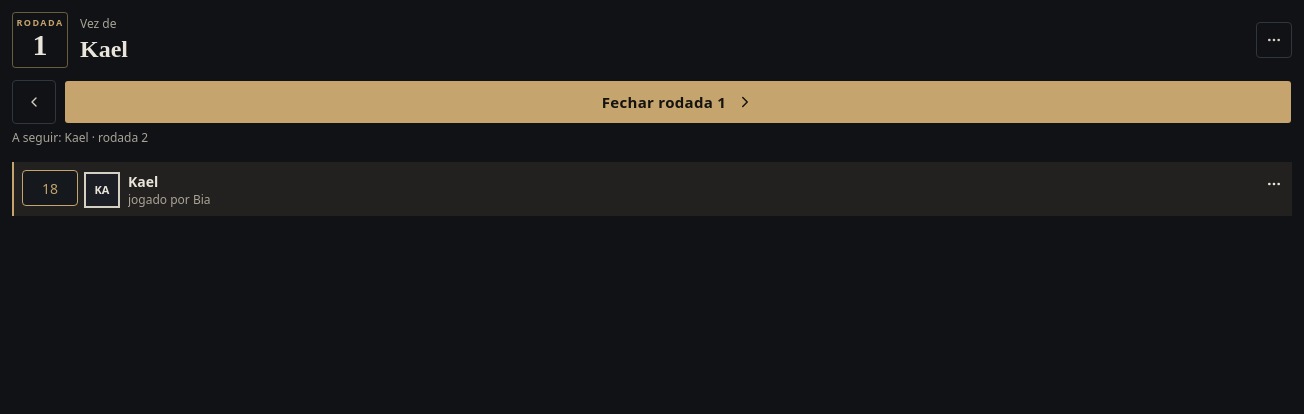
Test: CombatPanel › adding in the middle of the fight › "Adicionar ao combate" opens the preparation with only who is out
Click the button named "Mais opções do combate" at (1274,40), box [1256, 22, 1292, 58]
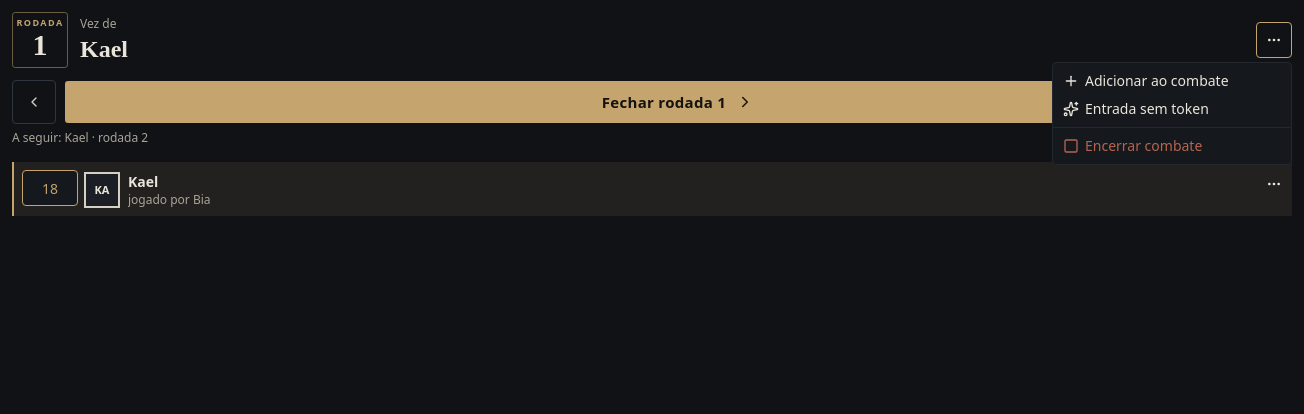
Click the menu item "Adicionar ao combate" at (1146,80), box [1063, 71, 1229, 90]
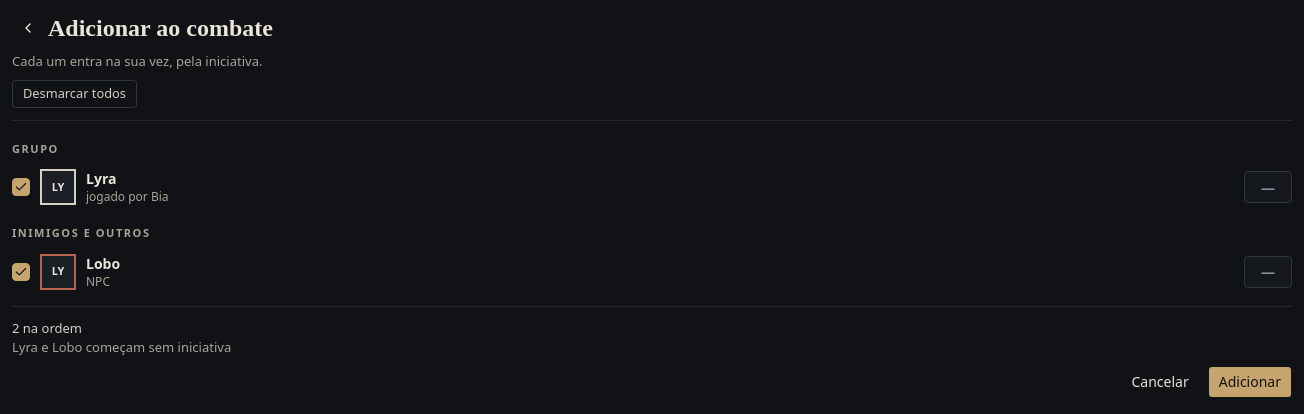
Expected: the heading "Adicionar ao combate" is shown, [48, 12, 273, 44]
Expected: the checkbox named "Incluir Lobo" is checked, [12, 262, 30, 280]
